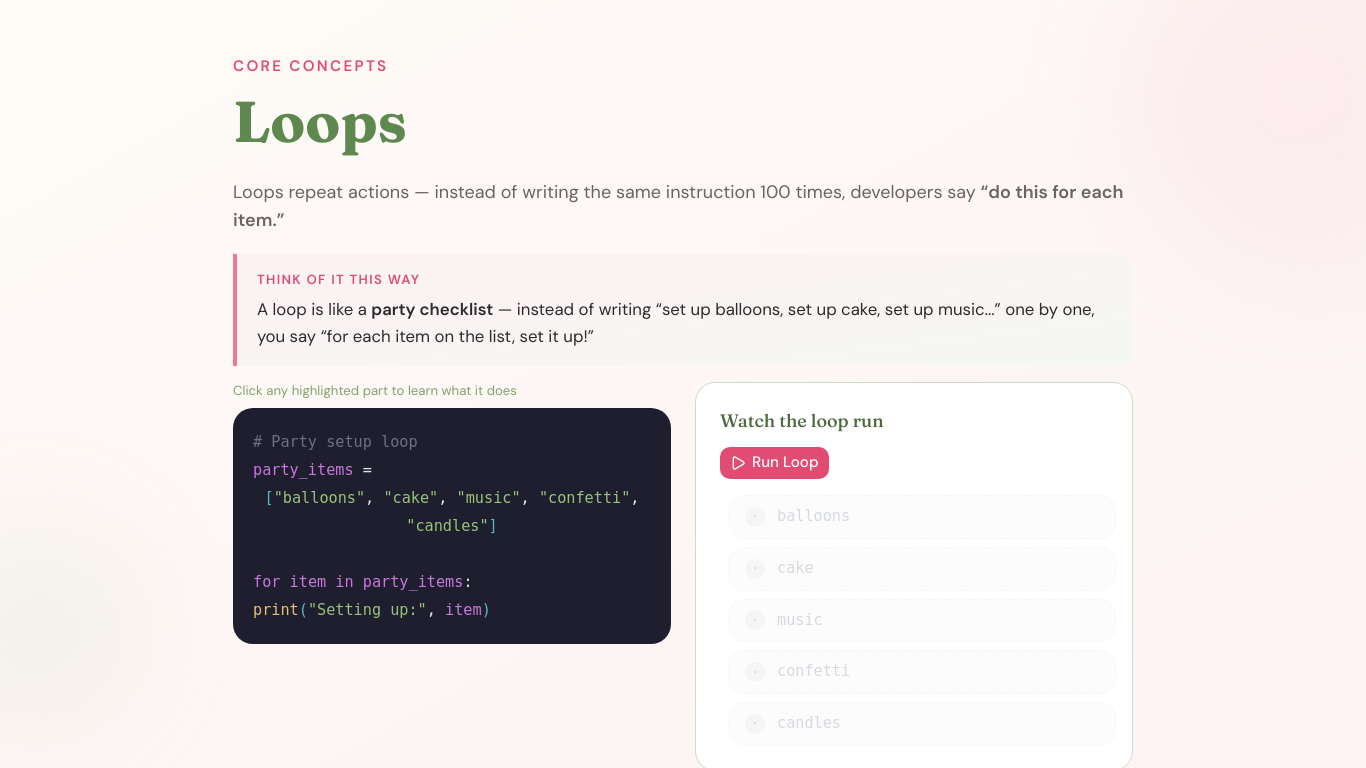
Test: LoopsSlide › shows items appearing after clicking Run Loop
This screenshot has width=1366, height=768.
Step 1. Click the button "Run Loop" → (774, 463), box [720, 447, 829, 479]
Wait 600 ms
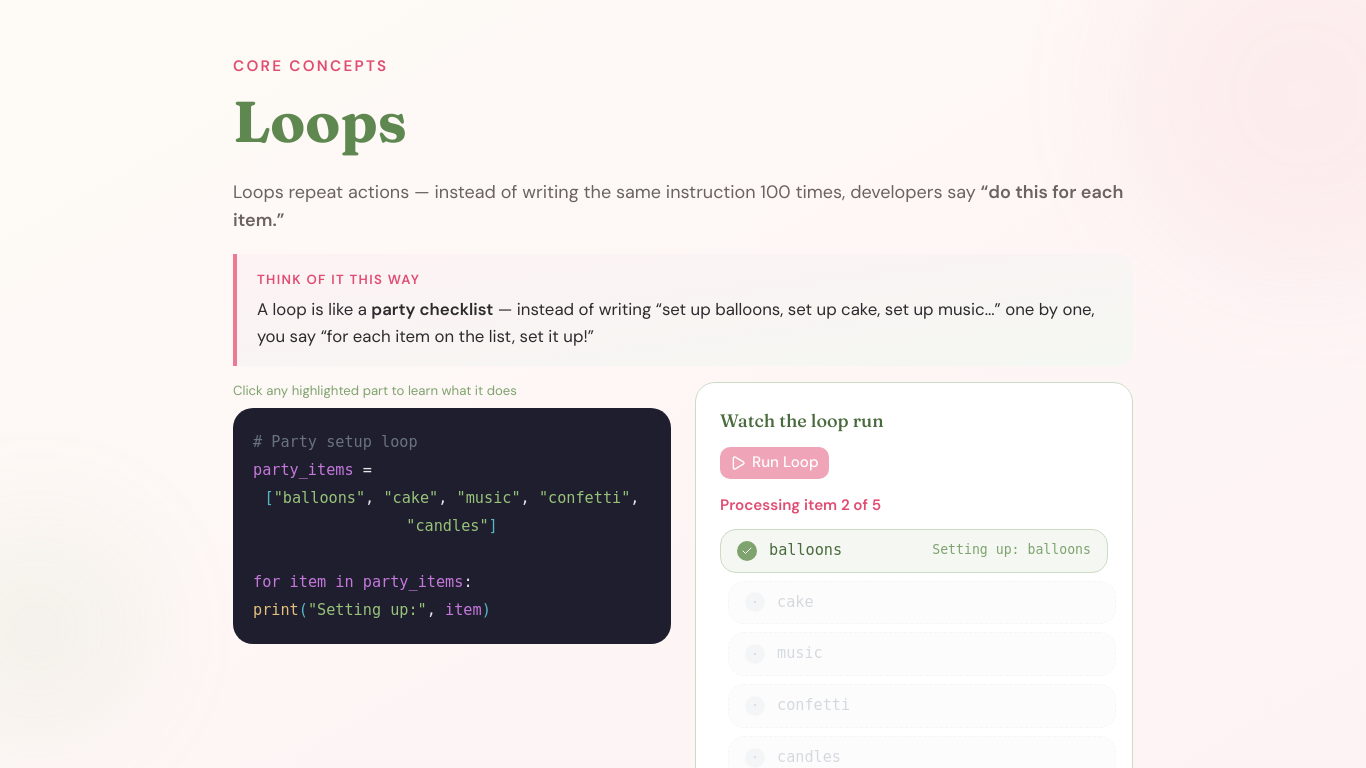
Check: the text "Setting up: balloons" is shown, box [932, 541, 1091, 560]
